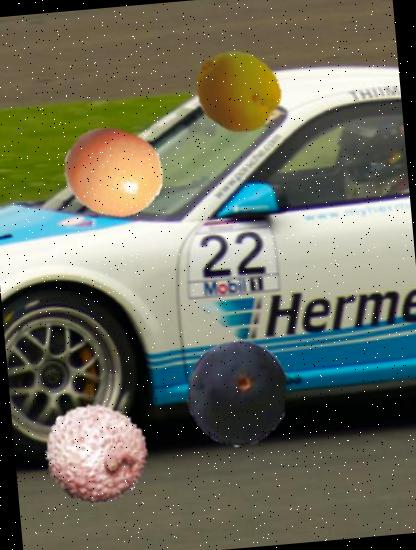Grape: (179, 336, 295, 452)
Grapefruit: (60, 118, 169, 227)
Lychee: (40, 396, 152, 509)
Peach: (188, 42, 284, 138)
